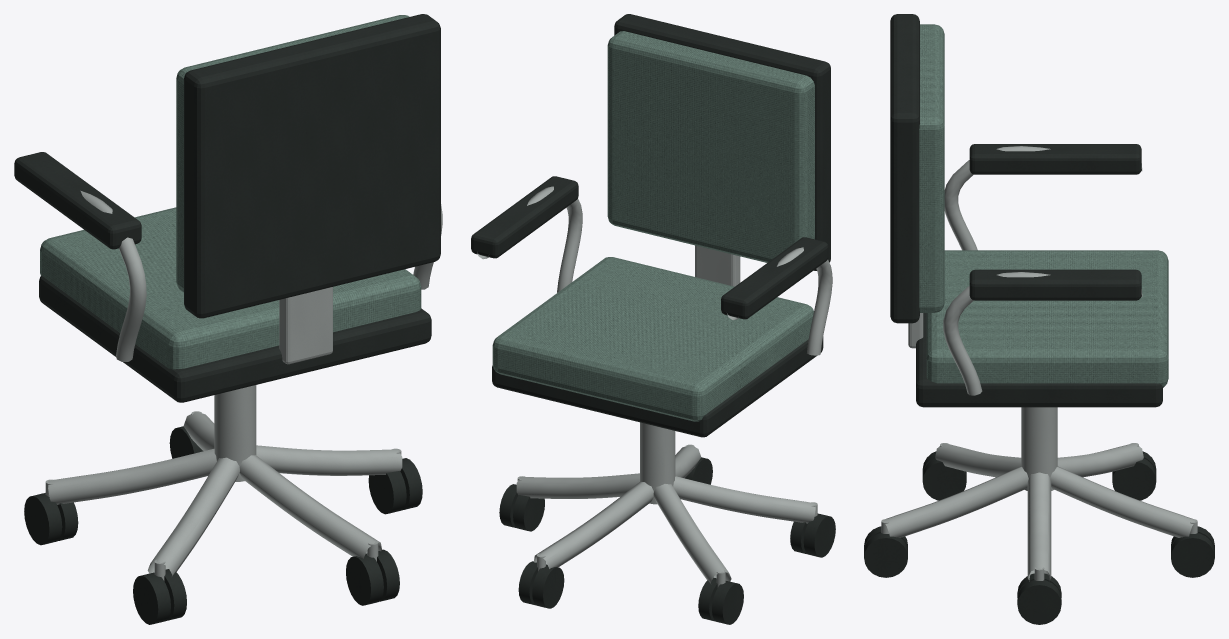
The model's file is SM_Office_Chair.fbx.
3 views of the same model, side by side, from view 1: azimuth 30°, elevation 25°; view 2: azimuth 150°, elevation 25°; view 3: azimuth 270°, elevation 25° (orthographic). The views are drawn at different scales.
Visible parts, largest first — view 1: SM_Office_Chair; view 2: SM_Office_Chair; view 3: SM_Office_Chair.
Boxes of the visible parts, x1,y1,x2,y2 form: SM_Office_Chair: (14, 14, 442, 624); SM_Office_Chair: (471, 14, 835, 624); SM_Office_Chair: (864, 14, 1214, 624).
Size of the model in its own units: 0.635 by 0.6526 by 0.999.
